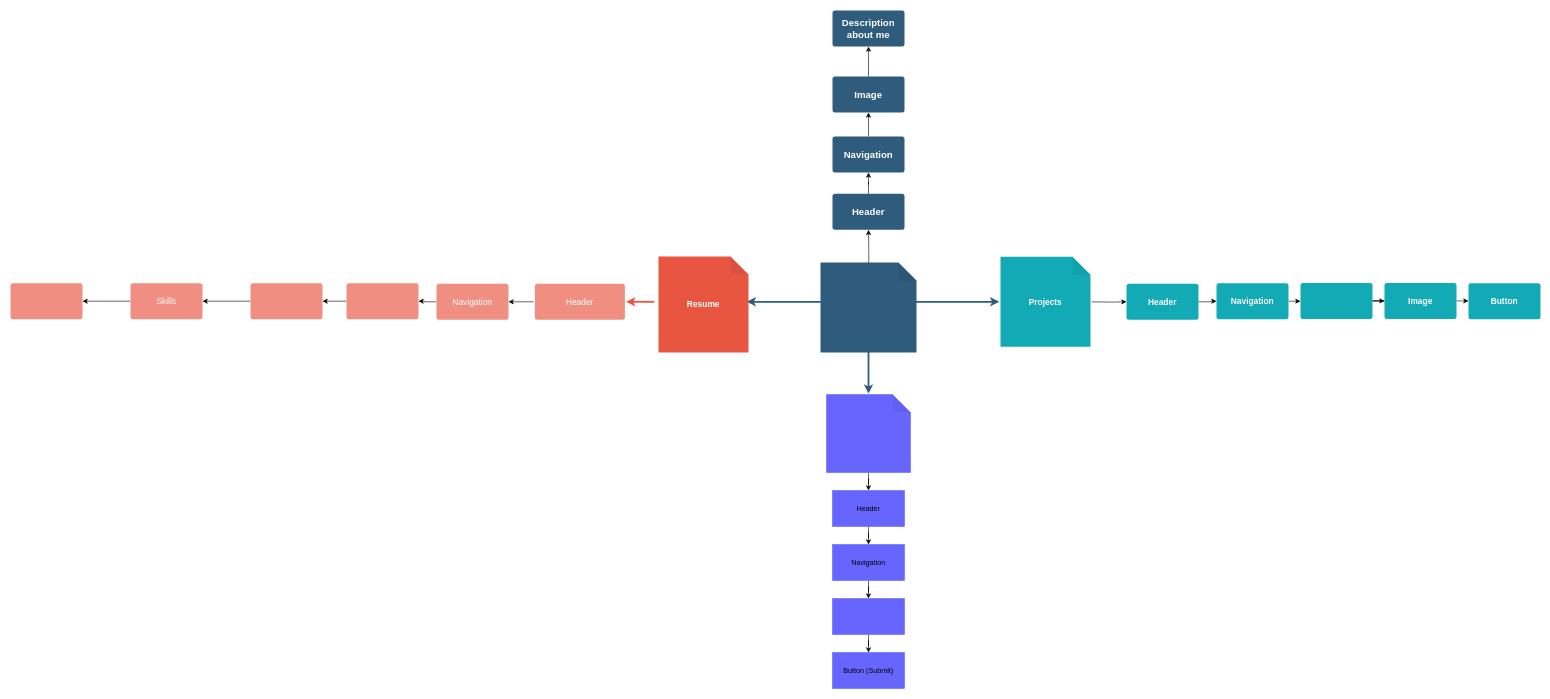
Image size: 1550x699. Some labels were removed from this diagram. The box of each missing label's shape, as (x1, y1, x2, y2) in pixels:
Contact: (826, 394, 910, 472)
Contact Information (Form): (832, 598, 904, 634)
Description about the Projects: (1300, 283, 1372, 319)
Education: (10, 283, 82, 319)
Home: (820, 262, 916, 352)
Objective: (346, 283, 418, 319)
Work Experience: (250, 283, 322, 319)
